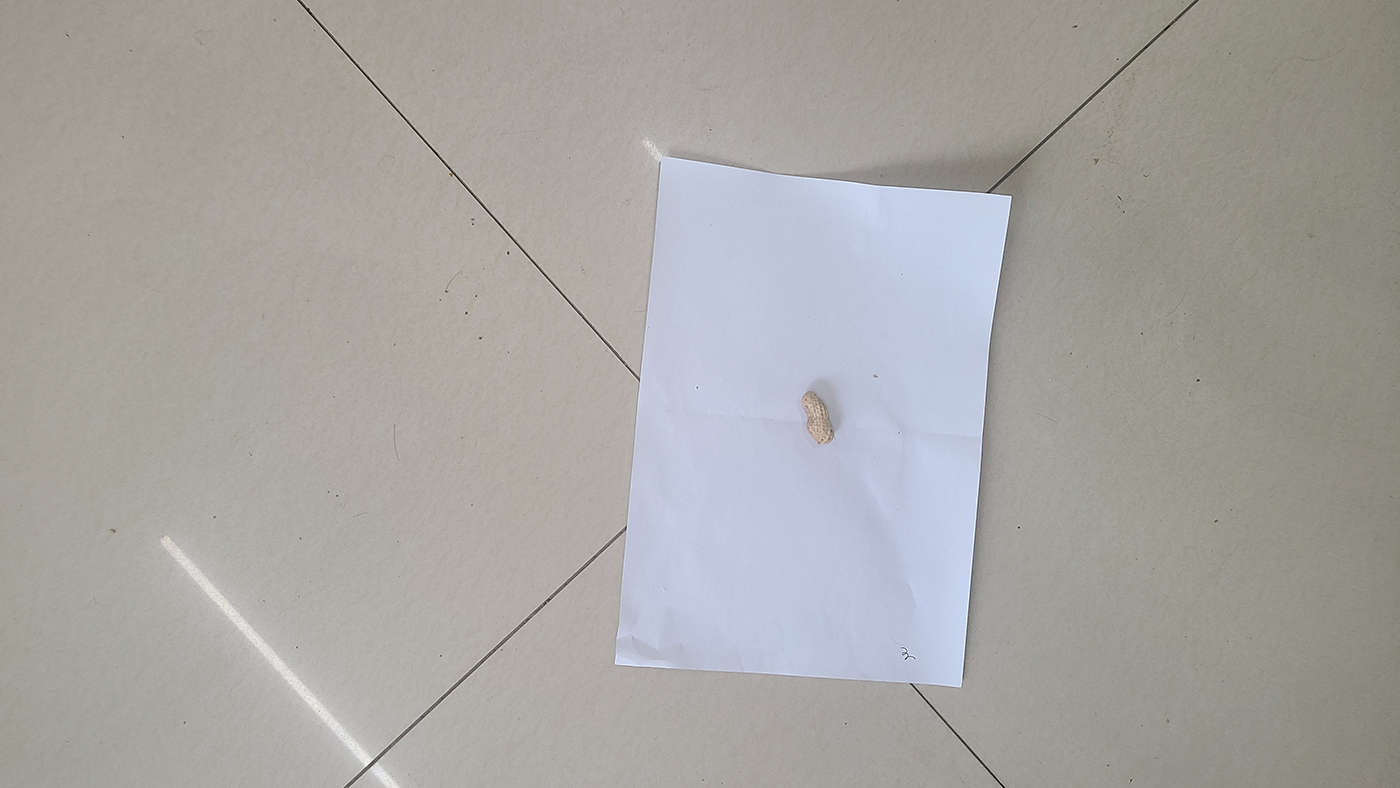h: (800, 391, 836, 445)
